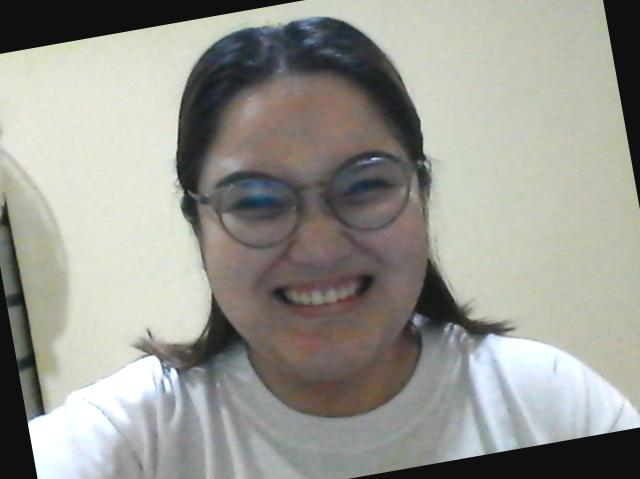senang: (178, 44, 454, 374)
